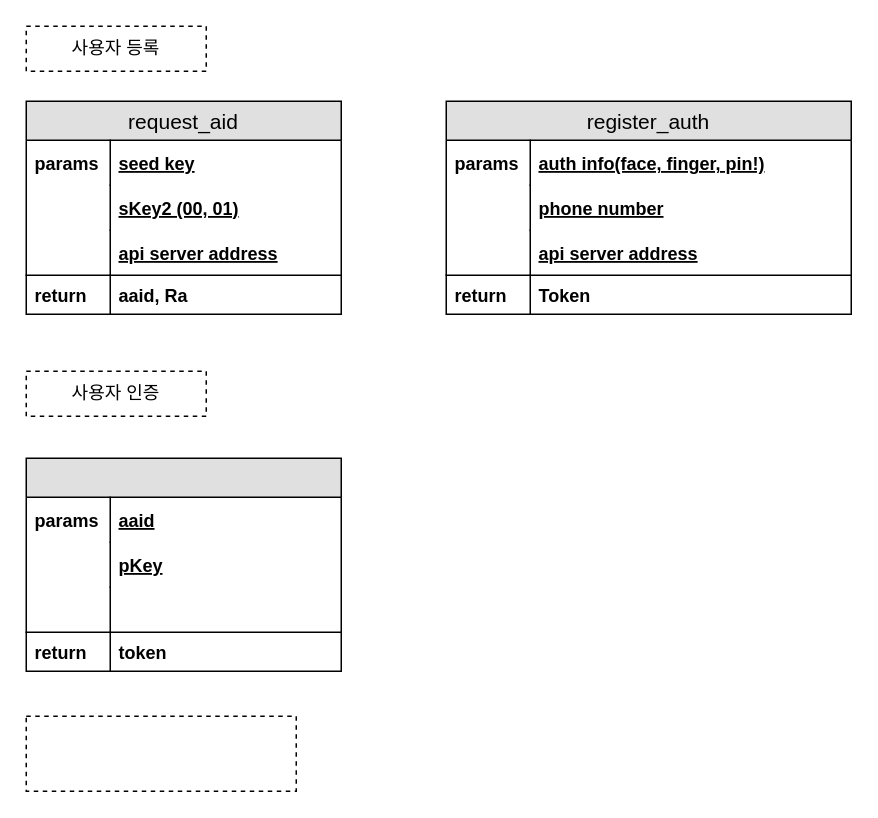
Image size: 878x818. Some labels were removed from this diagram. The box of each missing label's shape, as (x1, y1, x2, y2) in pixels:
discussion, eval, vote create, Join, entering: (25, 715, 296, 791)
sign_in: (25, 457, 341, 671)
